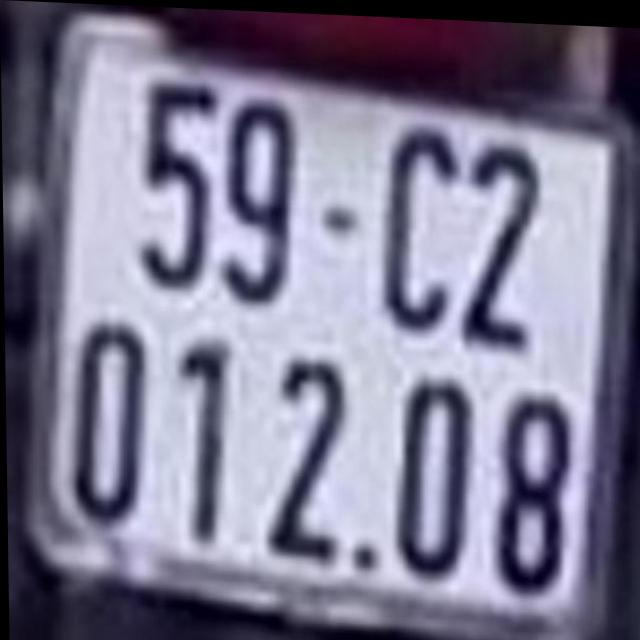0: (77, 319, 145, 522), (396, 372, 465, 572)
1: (170, 339, 238, 553)
2: (265, 353, 348, 557), (466, 137, 534, 348)
5: (138, 79, 213, 287)
8: (494, 384, 572, 591)
9: (225, 97, 287, 297)
C: (385, 115, 455, 332)
